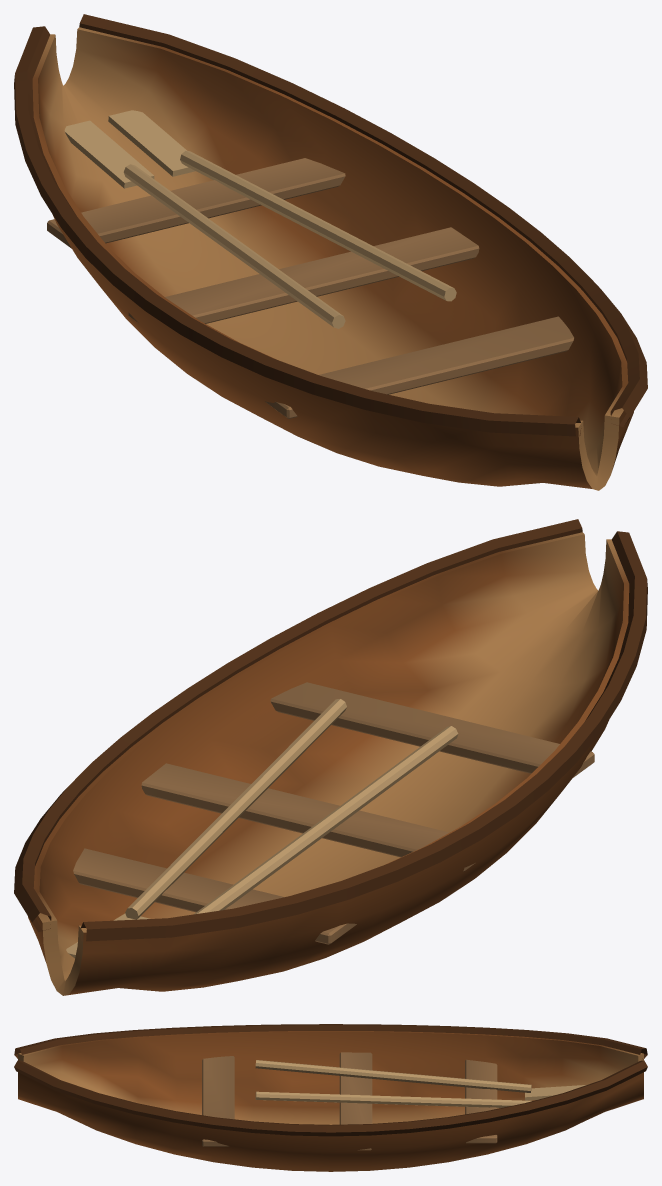
Rendered from rowboat.glb.
3 views of the same model, one above another, from view 1: azimuth 30°, elevation 25°; view 2: azimuth 150°, elevation 25°; view 3: azimuth 270°, elevation 25° (orthographic). The views are drawn at different scales.
Visible parts, largest first — view 1: rowboat; view 2: rowboat; view 3: rowboat.
Part boxes in pixels (bbox=[...]): rowboat: bbox=[14, 14, 647, 490]; rowboat: bbox=[14, 519, 647, 995]; rowboat: bbox=[14, 1024, 647, 1171].
Bounding box in the file's own units: 1.99 × 0.9086 × 5.07.
